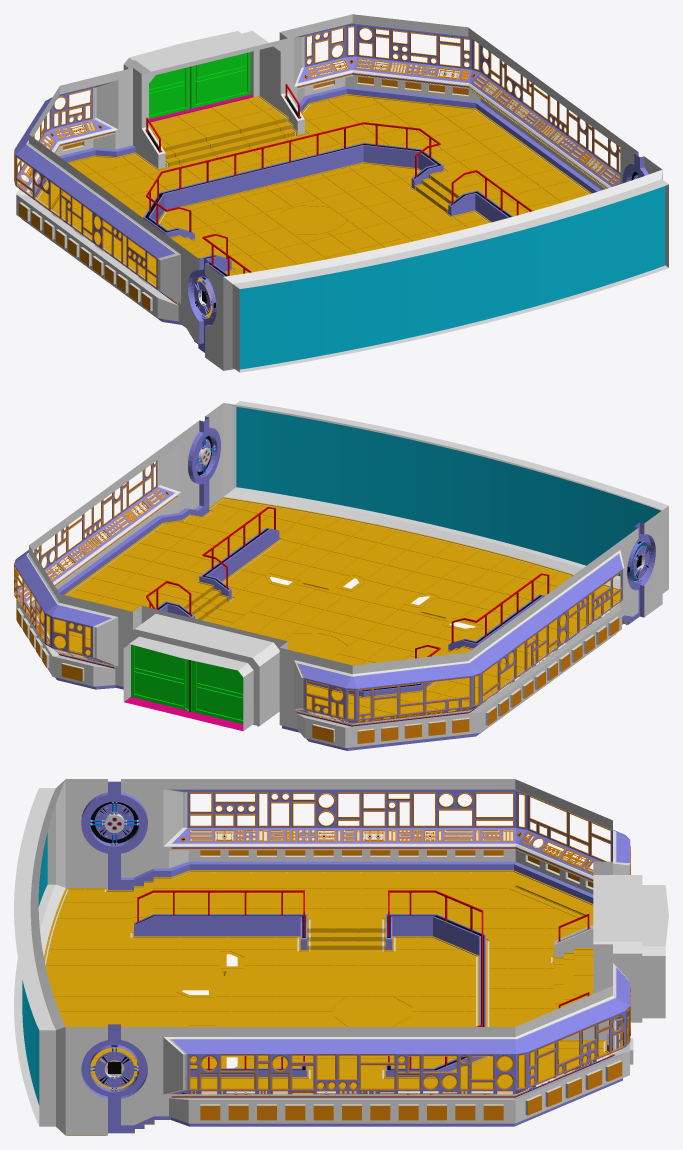
The model's file is BridgeV71.fbx.
3 renders of one model, top to bottom at view 1: azimuth 30°, elevation 25°; view 2: azimuth 150°, elevation 25°; view 3: azimuth 270°, elevation 25°, orthographic. The views are drawn at different scales.
Parts seen in each view (by area): view 1: Bridge, BridgeDoor; view 2: Bridge, BridgeDoor, BridgeFloorLightStrip; view 3: Bridge, BridgeWallLightStrips, BridgeFloorLightStrip.
Part boxes in pixels (box(x1,y1,x2,y2)): Bridge: box(14, 14, 668, 372); BridgeDoor: box(149, 52, 250, 118); Bridge: box(14, 401, 668, 750); BridgeDoor: box(131, 644, 243, 723); BridgeFloorLightStrip: box(37, 498, 626, 696); Bridge: box(14, 779, 668, 1135); BridgeWallLightStrips: box(172, 847, 614, 1097); BridgeFloorLightStrip: box(45, 872, 606, 1078).
Size of what is drawn, in the model's own units: 18.79 by 3.74 by 19.65.
